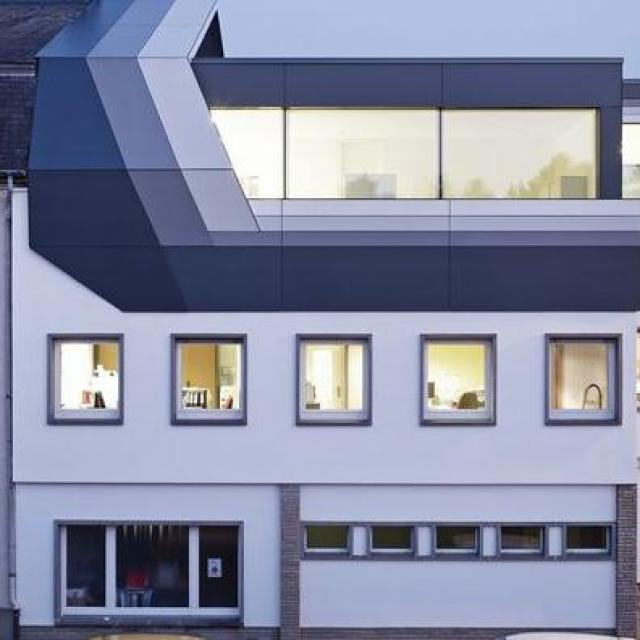door: (58, 524, 117, 616), (188, 527, 242, 621)
wall: (13, 0, 638, 638)
windows: (209, 108, 600, 201), (60, 525, 244, 618), (177, 340, 239, 410), (58, 341, 120, 410), (304, 344, 366, 413), (422, 343, 484, 412), (550, 340, 612, 409), (304, 526, 351, 550), (566, 525, 608, 551), (371, 525, 413, 549), (435, 528, 478, 550), (501, 528, 540, 550)
